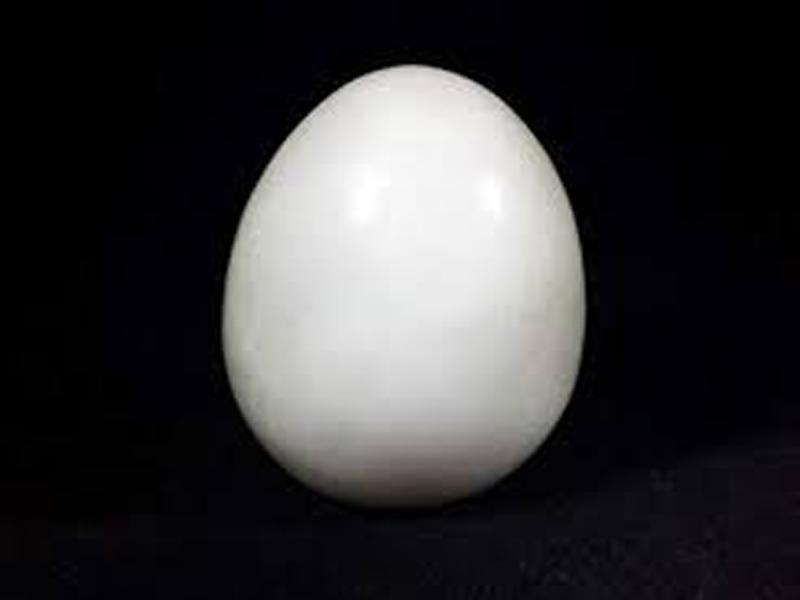Eggs: (228, 67, 582, 512)
